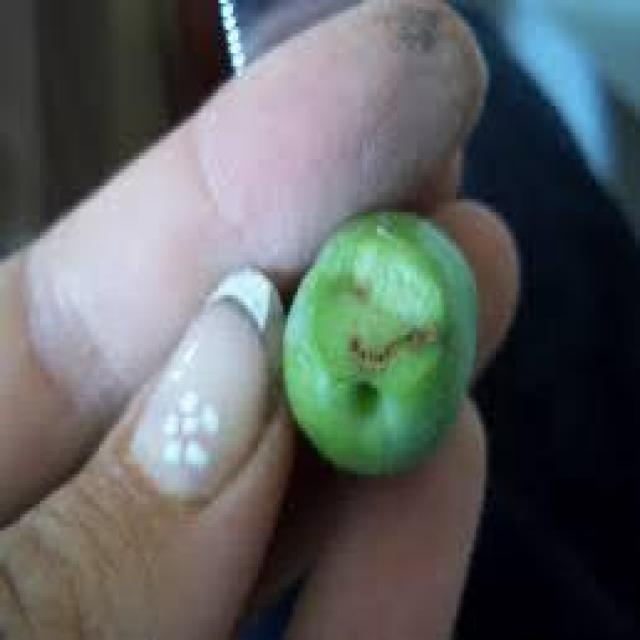Olive Fruit Fly: (285, 212, 474, 471)
